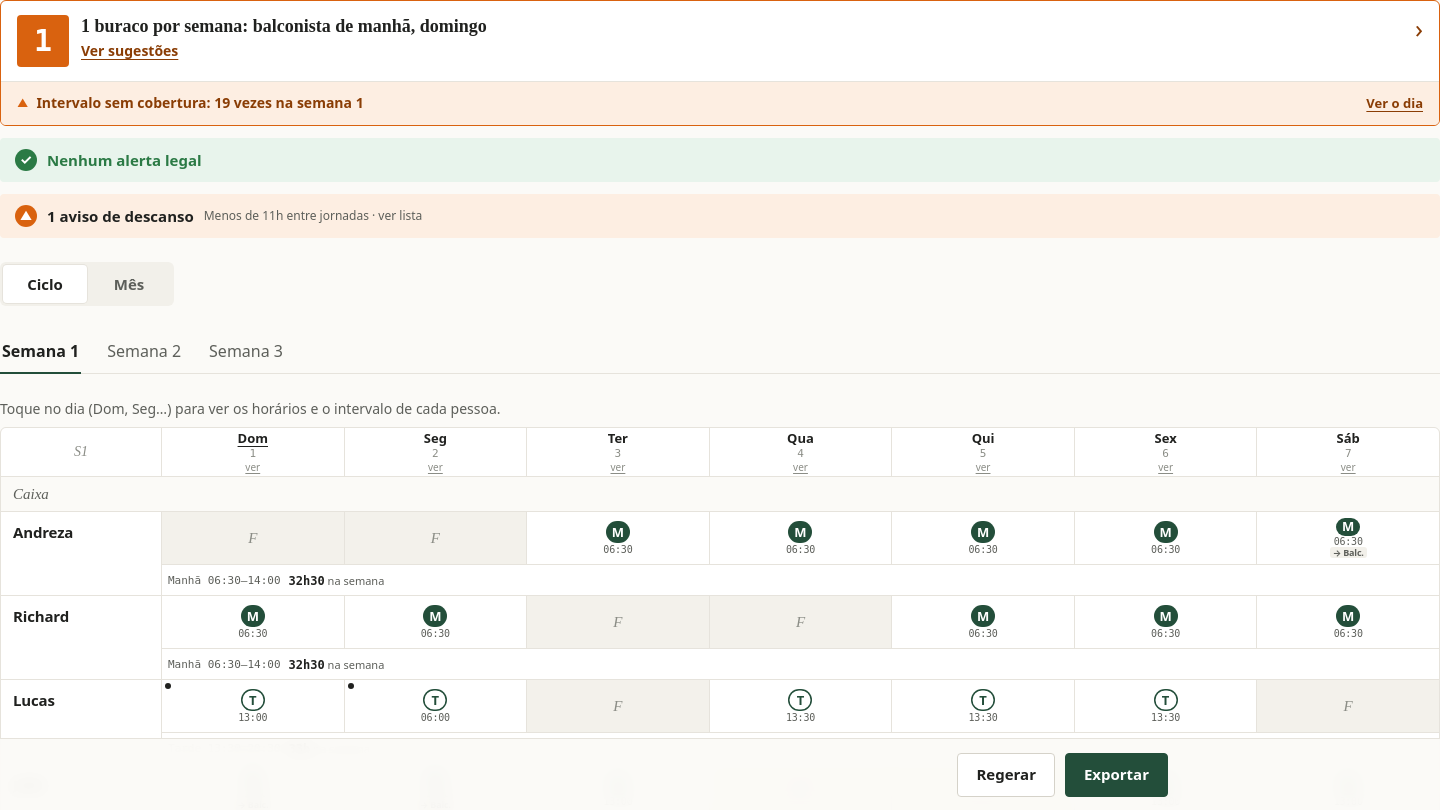
Test: ScheduleView › descanso menor que 11h vira aviso de descanso, não alerta legal
Click the button "1 aviso de descanso": (120, 216) [0,194,1439,238]
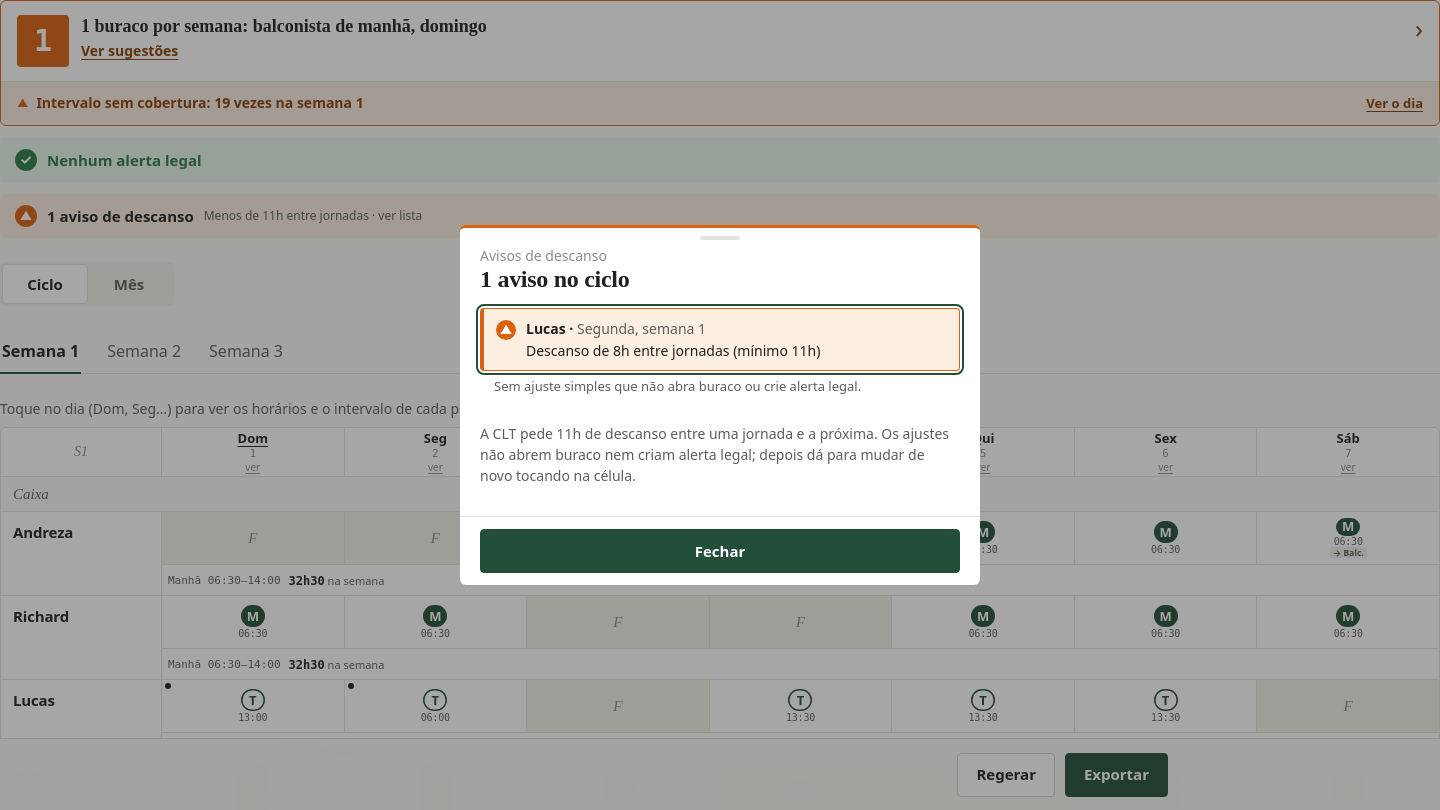
expect the dialog "aviso no ciclo" shows "Avisos de descanso": met, box [480,246,607,265]
expect the dialog "aviso no ciclo" shows "Descanso de 8h entre jornadas (mínimo 11h)": met, box [480,308,960,371]
expect the dialog "aviso no ciclo" shows "A CLT pede 11h de descanso": met, box [480,424,949,485]
